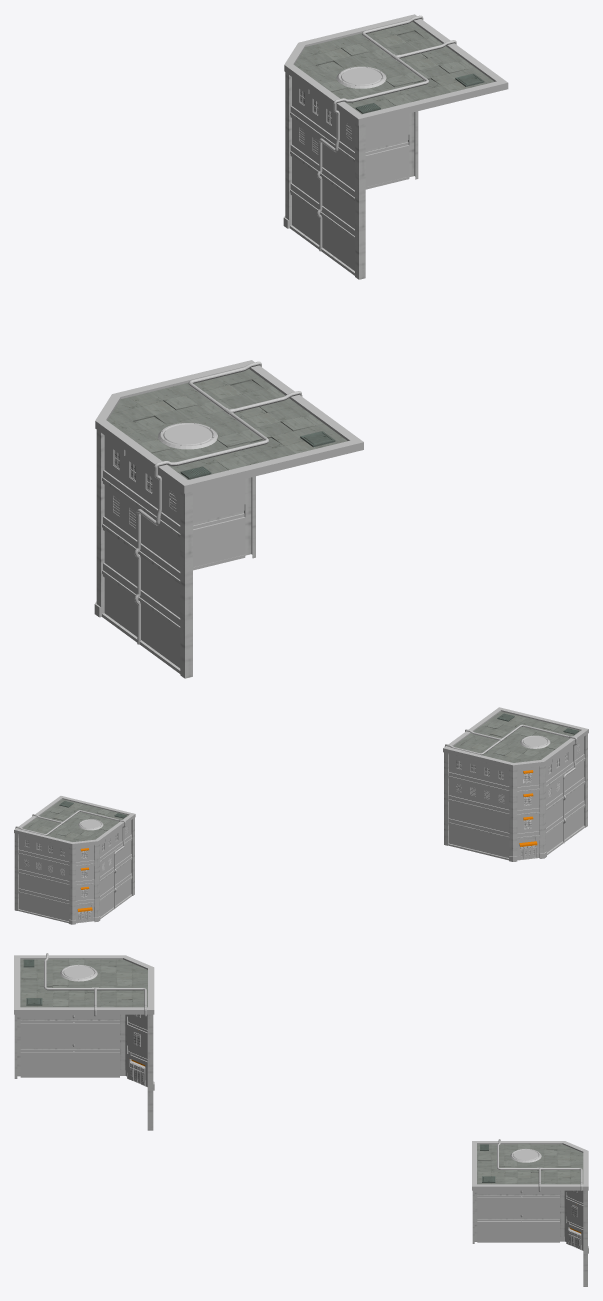
Rendered from MERGED_SM_ENV_KNVLLG_CommonBuilding_G_3.mo.fbx.
3 renders of one model, top to bottom at view 1: azimuth 30°, elevation 25°; view 2: azimuth 150°, elevation 25°; view 3: azimuth 270°, elevation 25°, orthographic. The views are drawn at different scales.
Parts seen in each view (by area): view 1: MERGED_SM_ENV_KNVLLG_CommonBuilding_G_3.mo; view 2: MERGED_SM_ENV_KNVLLG_CommonBuilding_G_3.mo; view 3: MERGED_SM_ENV_KNVLLG_CommonBuilding_G_3.mo.
Boxes of the visible parts, x1,y1,x2,y2 form: MERGED_SM_ENV_KNVLLG_CommonBuilding_G_3.mo: [94, 14, 508, 678]; MERGED_SM_ENV_KNVLLG_CommonBuilding_G_3.mo: [14, 707, 588, 924]; MERGED_SM_ENV_KNVLLG_CommonBuilding_G_3.mo: [14, 953, 588, 1286].
Size of the model in its own units: 113 by 30.69 by 129.
